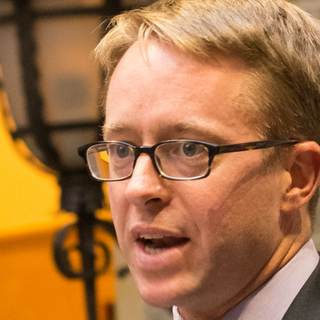eye: (168, 138, 213, 168), (107, 138, 141, 166)
